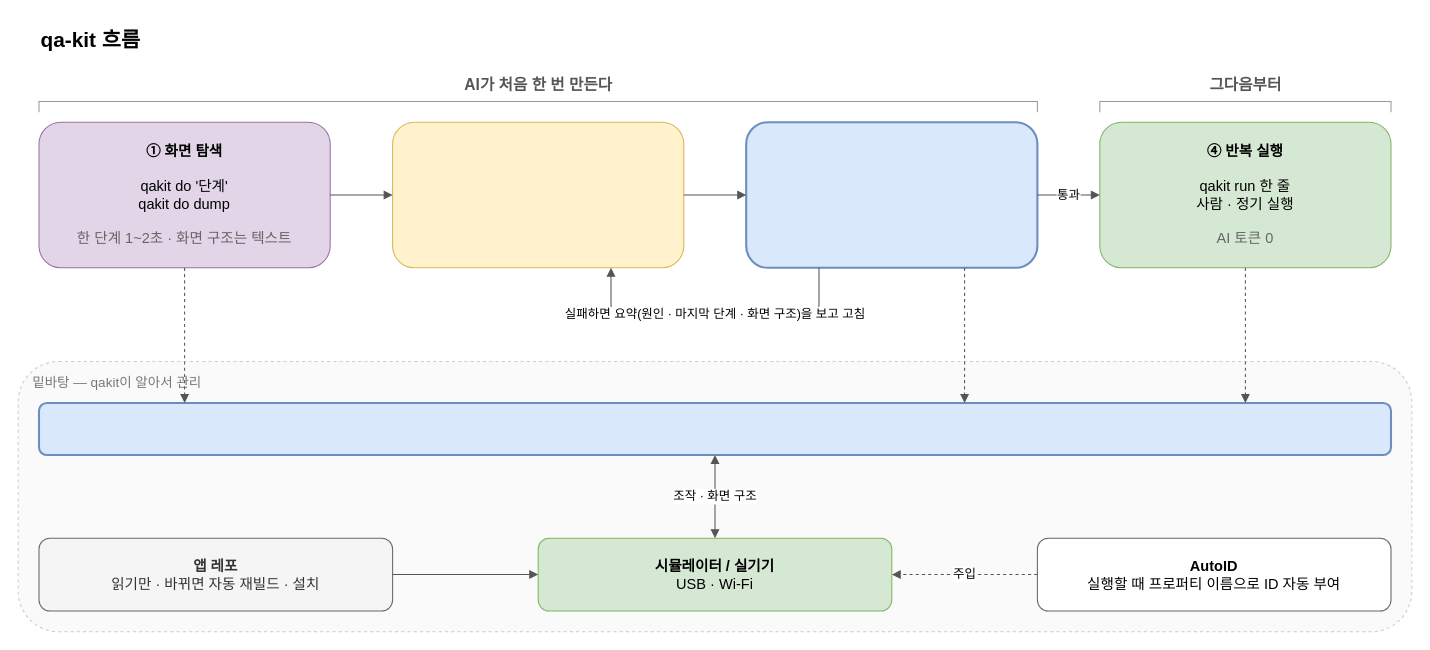
Some shapes in this 1430 by 650 pixel diagram are drawn without their labels. Each missing label, with the centre of its shape:
"② 시나리오 작성 통과한 단계를 그대로 옮김 scenarios/*.qa.yml 컴파일 없음" goes at (x=538, y=194).
"③ 검사 · 실행 qakit check qakit run ID가 앱에 있는지 먼저 검사" goes at (x=891, y=194).
"상주 실행기 · 미리 빌드한 범용 XCUITest 실행기를 띄워 두고 명령만 주고받음" goes at (x=714, y=428).
